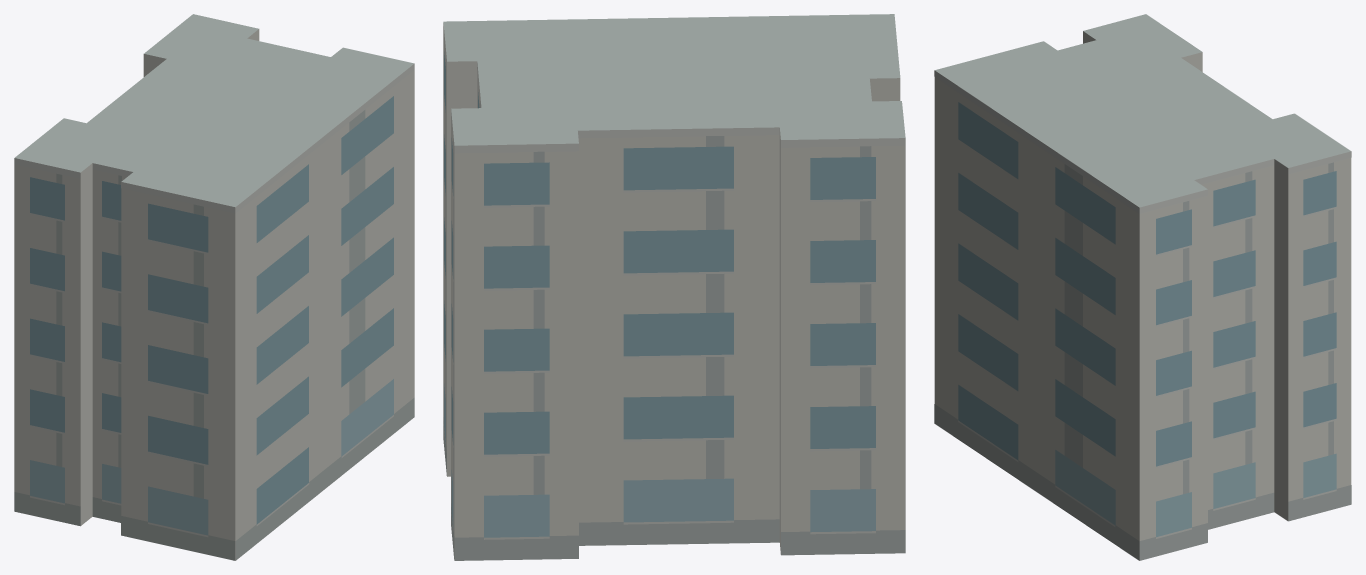
Rendered from residential-c8365e27-1575-4b7b-a3dc-a976421c880d.glb.
The picture shows the model from 3 angles, left to right: view 1: azimuth 30°, elevation 25°; view 2: azimuth 150°, elevation 25°; view 3: azimuth 270°, elevation 25°; orthographic projection. The views are drawn at different scales.
Parts seen in each view (by area): view 1: residential-c8365e27-1575-4b7b-a3dc-a976421c880d.tmp; view 2: residential-c8365e27-1575-4b7b-a3dc-a976421c880d.tmp; view 3: residential-c8365e27-1575-4b7b-a3dc-a976421c880d.tmp.
Boxes of the visible parts, x1,y1,x2,y2 form: residential-c8365e27-1575-4b7b-a3dc-a976421c880d.tmp: (14, 14, 414, 560); residential-c8365e27-1575-4b7b-a3dc-a976421c880d.tmp: (443, 14, 905, 560); residential-c8365e27-1575-4b7b-a3dc-a976421c880d.tmp: (934, 14, 1351, 560).
Size of the model in its own units: 15.75 by 13.4 by 14.34.
